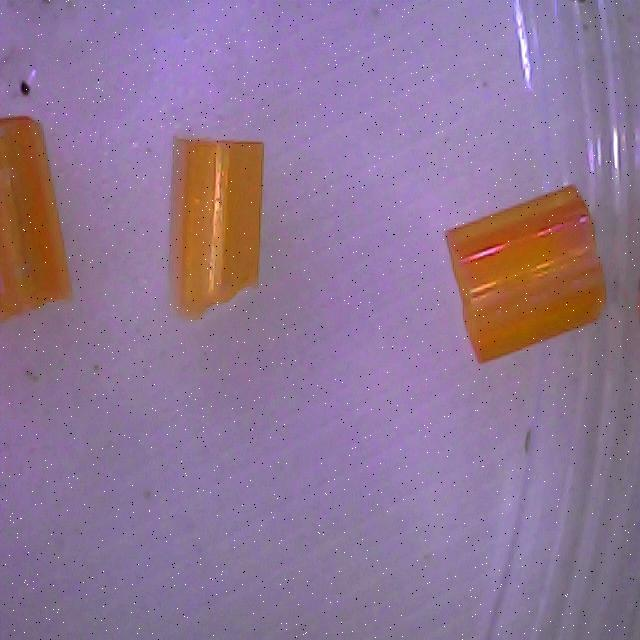fragments: (433, 182, 627, 364), (167, 139, 262, 320), (0, 116, 71, 321)
